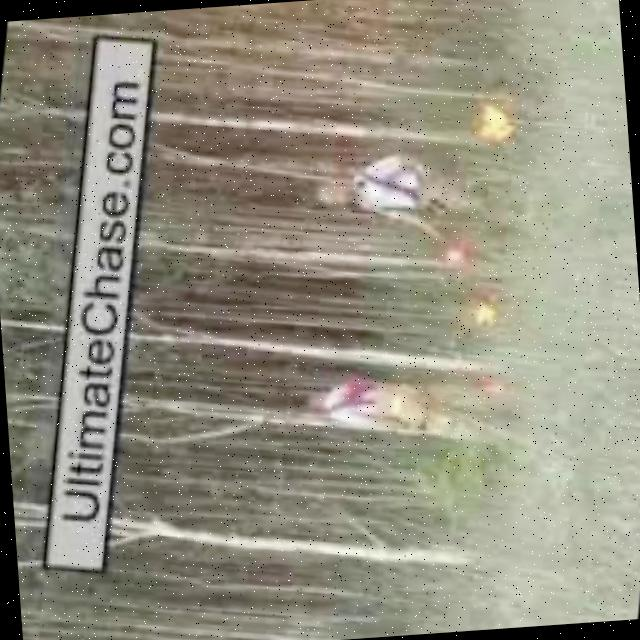fire: (463, 90, 537, 147), (467, 292, 505, 328), (439, 239, 477, 267)
